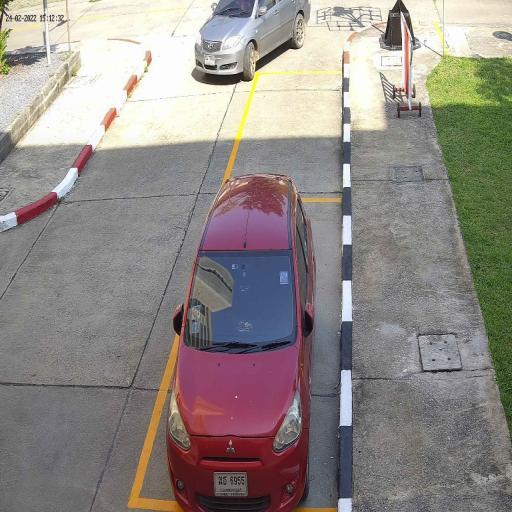car: (164, 170, 318, 512), (193, 0, 312, 82)
